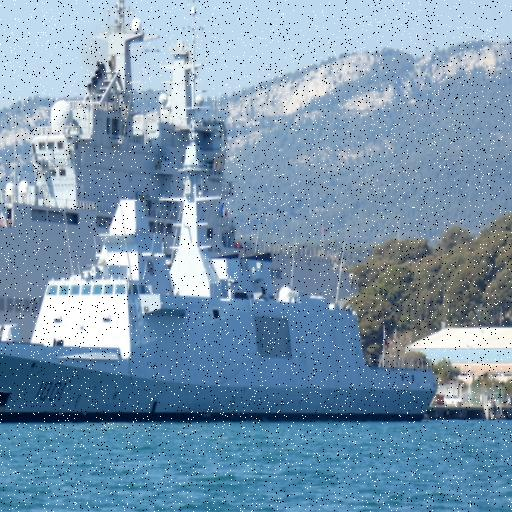Fragata: (1, 121, 450, 429)
